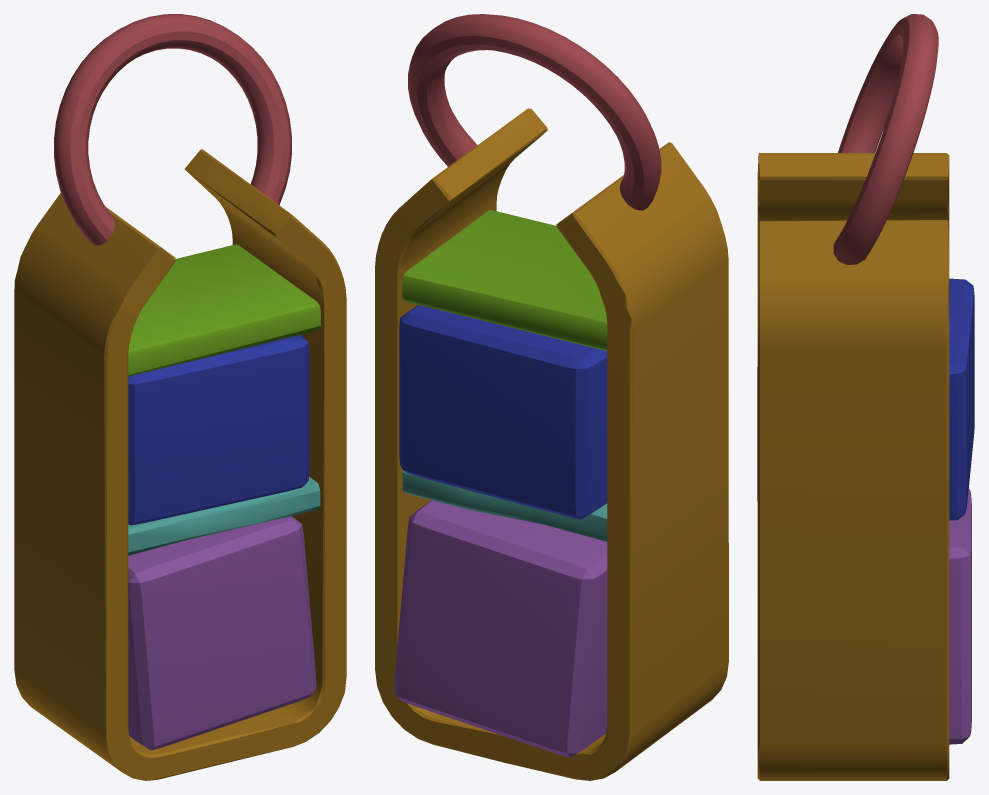
File: WallOrnament_Style_01.fbx
3 views of the same model, side by side, from view 1: azimuth 30°, elevation 25°; view 2: azimuth 150°, elevation 25°; view 3: azimuth 270°, elevation 25° (orthographic). The views are drawn at different scales.
Parts seen in each view (by area): view 1: SetA_WallOrnament_Style_01; view 2: SetA_WallOrnament_Style_01; view 3: SetA_WallOrnament_Style_01.
Boxes of the visible parts, x1,y1,x2,y2 form: SetA_WallOrnament_Style_01: (14, 14, 346, 780); SetA_WallOrnament_Style_01: (375, 14, 728, 780); SetA_WallOrnament_Style_01: (757, 14, 974, 780).
Bounding box in the file's own units: 0.1187 × 0.3216 × 0.0886.
